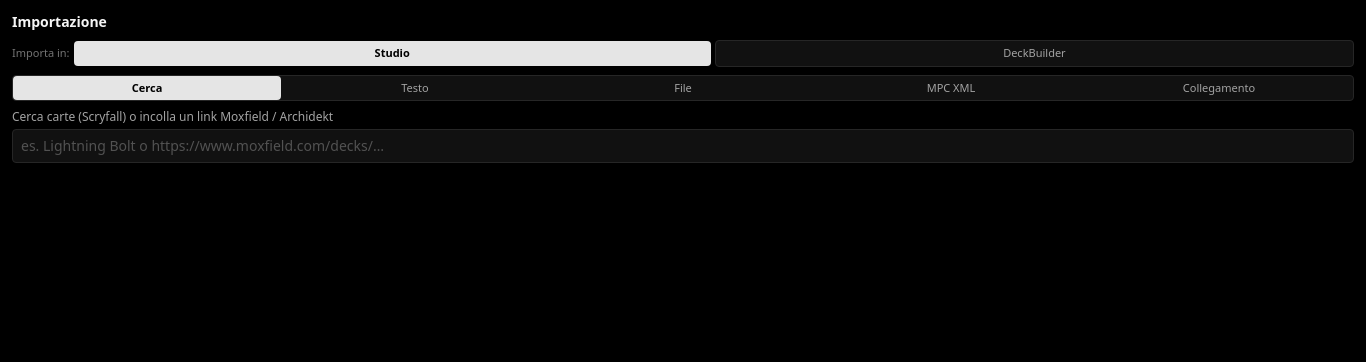
Test case: LeftPanel import decklist (pulsanti veri) › spiegazione Scarica artwork presente (attivo di default)
Click the tab "Testo" at {"x": 415, "y": 88}, box [281, 76, 549, 100]
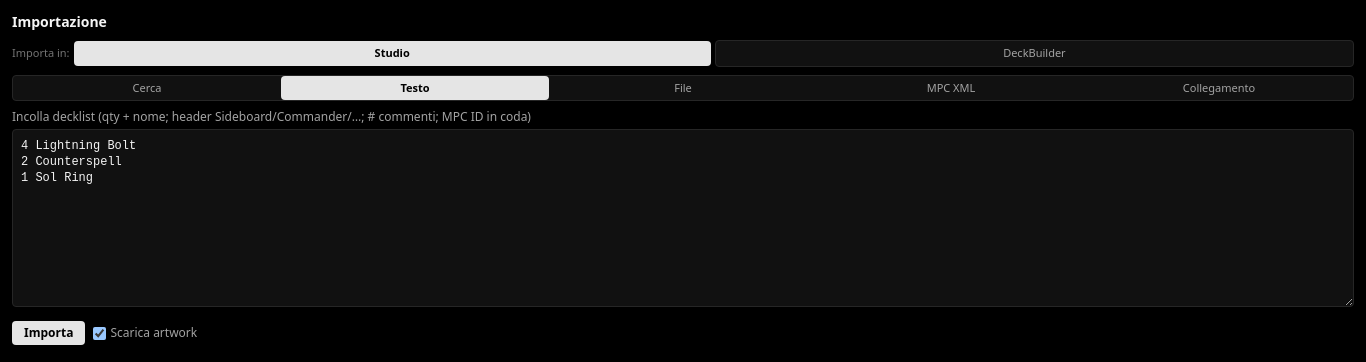
Now the checkbox labelled "Scarica artwork" is checked, box [93, 326, 106, 340]
